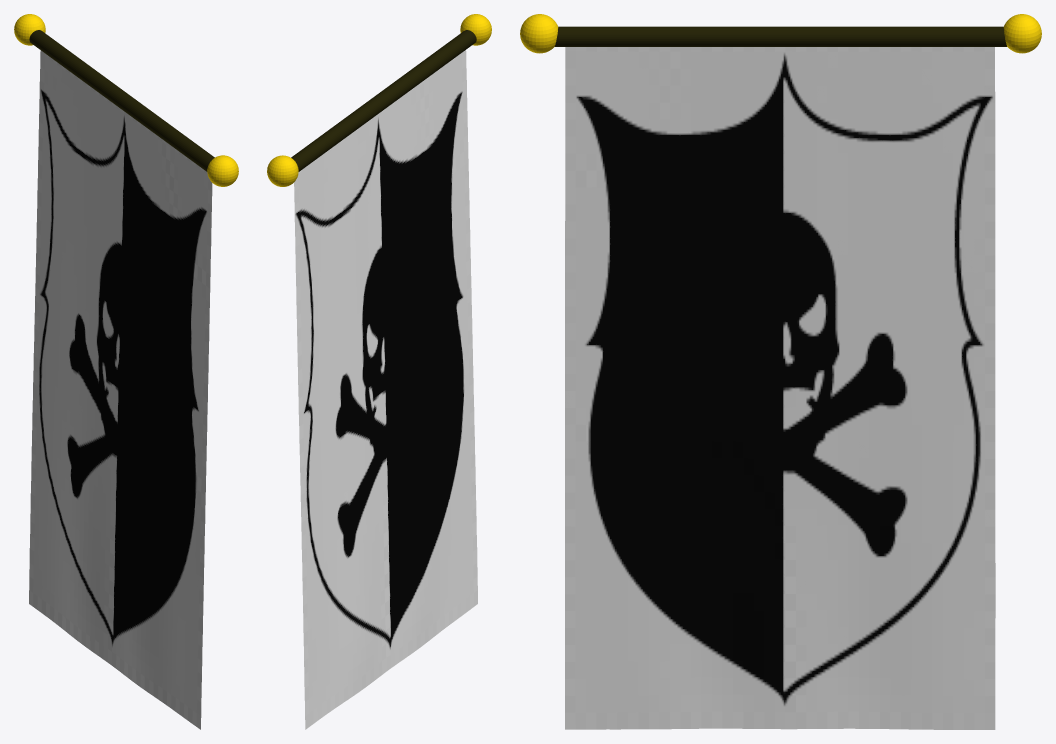
Rendered from Banner2.fbx.
3 views of the same model, side by side, from view 1: azimuth 30°, elevation 25°; view 2: azimuth 150°, elevation 25°; view 3: azimuth 270°, elevation 25° (orthographic). The views are drawn at different scales.
Visible parts, largest first — view 1: Plane, Cylinder, Sphere.002, Sphere; view 2: Plane, Cylinder, Sphere, Sphere.002; view 3: Plane, Cylinder, Sphere, Sphere.002.
Part boxes in pixels (box(x1,y1,x2,y2)): Plane: box(29, 50, 212, 729); Cylinder: box(29, 30, 214, 171); Sphere.002: box(207, 155, 238, 186); Sphere: box(14, 14, 45, 45); Plane: box(294, 50, 477, 729); Cylinder: box(291, 30, 476, 171); Sphere: box(267, 155, 298, 186); Sphere.002: box(460, 14, 491, 45); Plane: box(565, 47, 995, 729); Cylinder: box(555, 26, 1006, 46); Sphere: box(1003, 14, 1041, 53); Sphere.002: box(520, 14, 558, 53).
Bounding box in the file's own units: 18.51 × 371 × 243.
3 materials, 1 textured.
